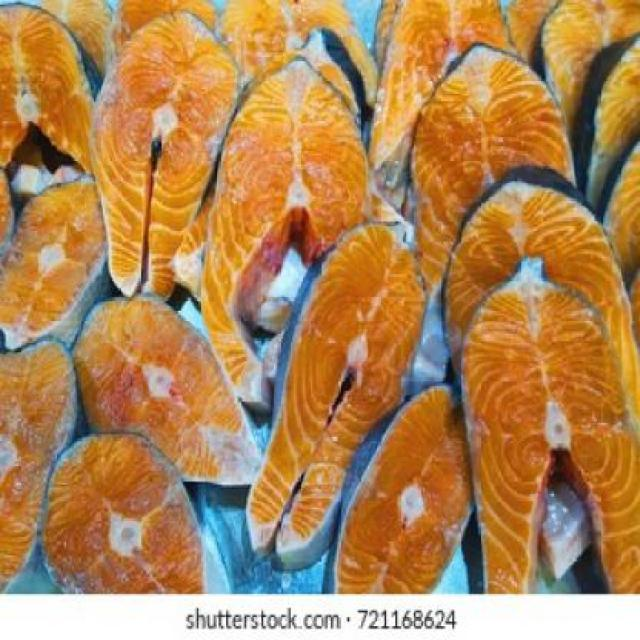salmon: (443, 258, 640, 594), (237, 226, 428, 567), (400, 43, 601, 322), (205, 60, 372, 389), (91, 9, 240, 302), (72, 294, 266, 506), (325, 371, 477, 597), (29, 413, 215, 594), (382, 2, 538, 196), (229, 3, 382, 191), (2, 4, 110, 244), (2, 329, 82, 599), (546, 9, 640, 236), (5, 164, 109, 354), (577, 37, 639, 234), (592, 112, 640, 254)
